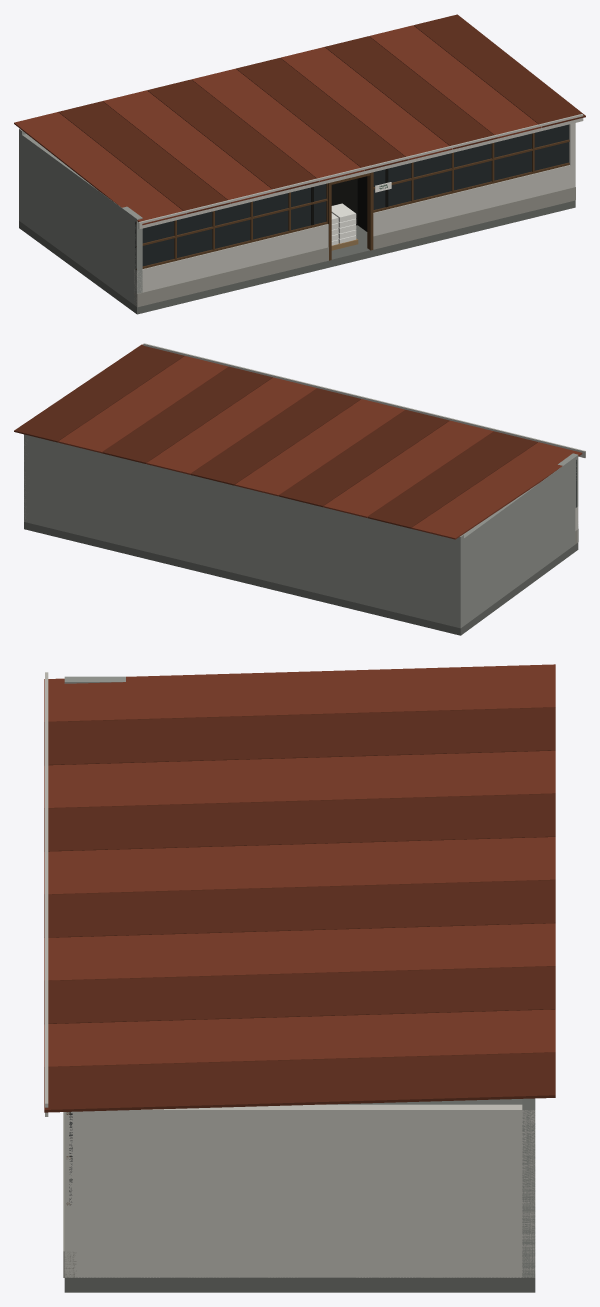
Rendered from lares_organic_fertilizer_storage.glb.
3 renders of one model, top to bottom at view 1: azimuth 30°, elevation 25°; view 2: azimuth 150°, elevation 25°; view 3: azimuth 270°, elevation 25°, orthographic. The views are drawn at different scales.
Parts seen in each view (by area): view 1: OFS_CombinedMesh; view 2: OFS_CombinedMesh; view 3: OFS_CombinedMesh.
Boxes of the visible parts, x1=… form: OFS_CombinedMesh: x1=14, y1=14, x2=585, y2=314; OFS_CombinedMesh: x1=14, y1=343, x2=585, y2=635; OFS_CombinedMesh: x1=44, y1=664, x2=555, y2=1292.
Bounding box in the file's own units: 12.64 × 2.75 × 6.3.
